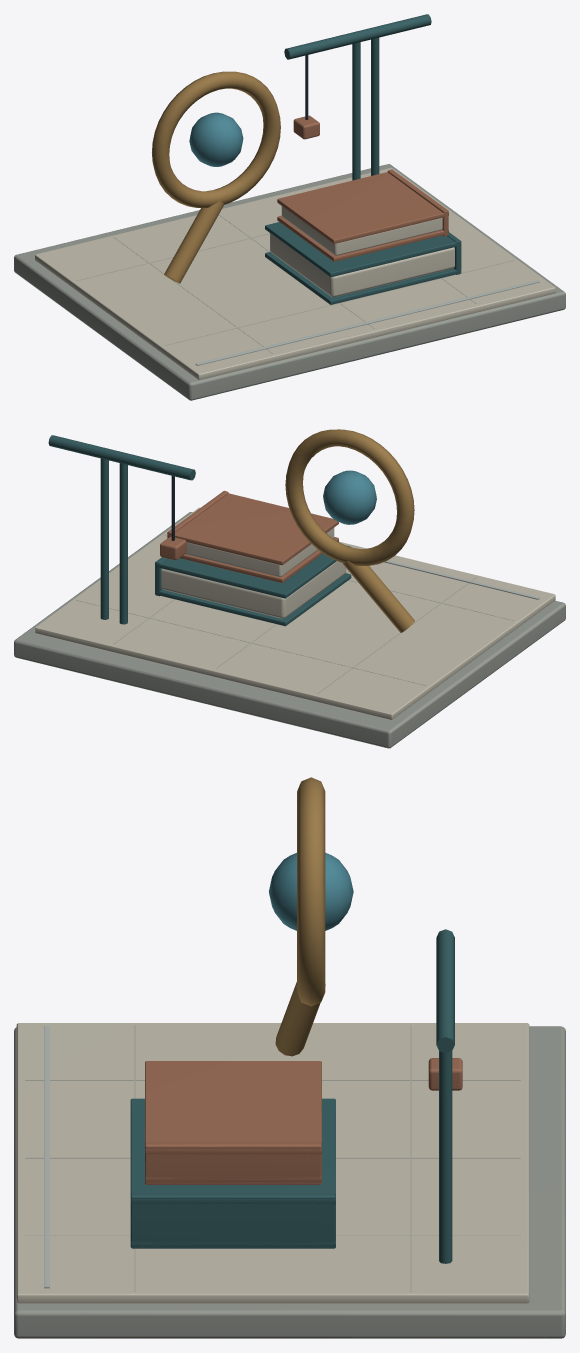
The model's file is idea-01d02668.glb.
The picture shows the model from 3 angles, top to bottom: view 1: azimuth 30°, elevation 25°; view 2: azimuth 150°, elevation 25°; view 3: azimuth 270°, elevation 25°; orthographic projection. The views are drawn at different scales.
Parts seen in each view (by area): view 1: Patent Discovery + Investing; view 2: Patent Discovery + Investing; view 3: Patent Discovery + Investing.
Boxes of the visible parts, bbox=[...] form: Patent Discovery + Investing: bbox=[14, 14, 565, 400]; Patent Discovery + Investing: bbox=[14, 429, 565, 748]; Patent Discovery + Investing: bbox=[14, 777, 565, 1338].
Size of the model in its own units: 4.8 by 2.79 by 3.9.
